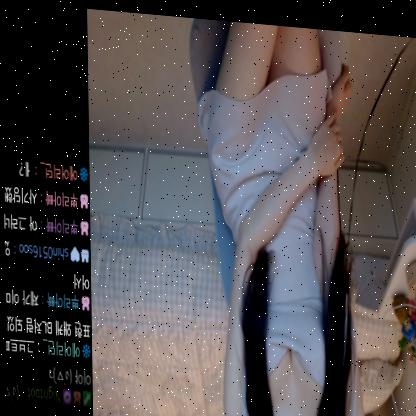streamer: (196, 14, 365, 416)
